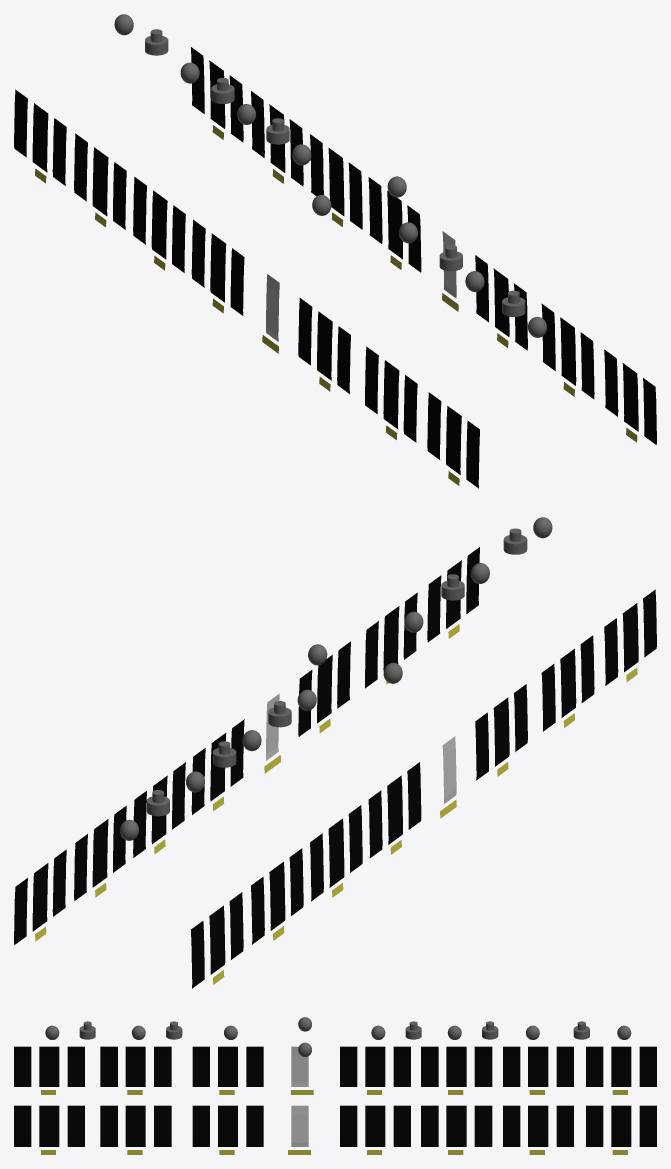
The model's file is lswr-48ft-lav-composite-windows.dae.
The picture shows the model from 3 angles, top to bottom: view 1: azimuth 30°, elevation 25°; view 2: azimuth 150°, elevation 25°; view 3: azimuth 270°, elevation 25°; orthographic projection. The views are drawn at different scales.
Visible parts, largest first — view 1: Plane_594, Plane_574, Plane_637, Plane_619, Plane_601, Plane_628, Plane_612, Plane_609, Plane_622, Plane_640, Plane_604, Plane_600 (+23 smaller); view 2: Plane_637, Plane_594, Plane_574, Plane_628, Plane_612, Plane_601, Plane_619, Plane_591, Plane_571, Plane_625, Plane_622, Plane_618 (+24 smaller); view 3: Plane_640, Plane_571, Plane_591, Plane_604, Plane_609, Plane_622, Plane_637, Plane_574, Plane_594, Plane_601, Plane_612, Plane_619 (+32 smaller).
Part boxes in pixels (bbox=[...]): Plane_594: bbox=[92, 147, 108, 216]; Plane_574: bbox=[32, 103, 48, 172]; Plane_637: bbox=[151, 190, 167, 259]; Plane_619: bbox=[383, 360, 399, 429]; Plane_601: bbox=[210, 233, 226, 302]; Plane_628: bbox=[317, 311, 332, 380]; Plane_612: bbox=[446, 406, 461, 474]; Plane_609: bbox=[622, 363, 638, 431]; Plane_622: bbox=[560, 317, 576, 385]; Plane_640: bbox=[328, 148, 344, 216]; Plane_604: bbox=[387, 190, 402, 259]; Plane_600: bbox=[230, 248, 244, 315]; Plane_637: bbox=[328, 818, 344, 887]; Plane_594: bbox=[269, 861, 285, 930]; Plane_574: bbox=[209, 905, 225, 974]; Plane_628: bbox=[493, 697, 509, 766]; Plane_612: bbox=[622, 603, 638, 672]; Plane_601: bbox=[387, 775, 402, 844]; Plane_619: bbox=[560, 649, 576, 717]; Plane_591: bbox=[92, 819, 108, 887]; Plane_571: bbox=[32, 863, 48, 931]; Plane_625: bbox=[317, 654, 332, 723]; Plane_622: bbox=[383, 606, 399, 670]; Plane_618: bbox=[580, 635, 594, 702]; Plane_640: bbox=[446, 1105, 466, 1146]; Plane_571: bbox=[611, 1105, 631, 1146]; Plane_591: bbox=[528, 1105, 548, 1146]; Plane_604: bbox=[365, 1105, 385, 1146]; Plane_609: bbox=[39, 1105, 59, 1146]; Plane_622: bbox=[125, 1105, 145, 1146]; Plane_637: bbox=[446, 1046, 466, 1086]; Plane_574: bbox=[611, 1046, 631, 1086]; Plane_594: bbox=[528, 1046, 548, 1086]; Plane_601: bbox=[365, 1046, 385, 1086]; Plane_612: bbox=[39, 1046, 59, 1086]; Plane_619: bbox=[125, 1046, 145, 1086].
Size of the model in its own units: 1.76 by 7.94 by 1.38.
